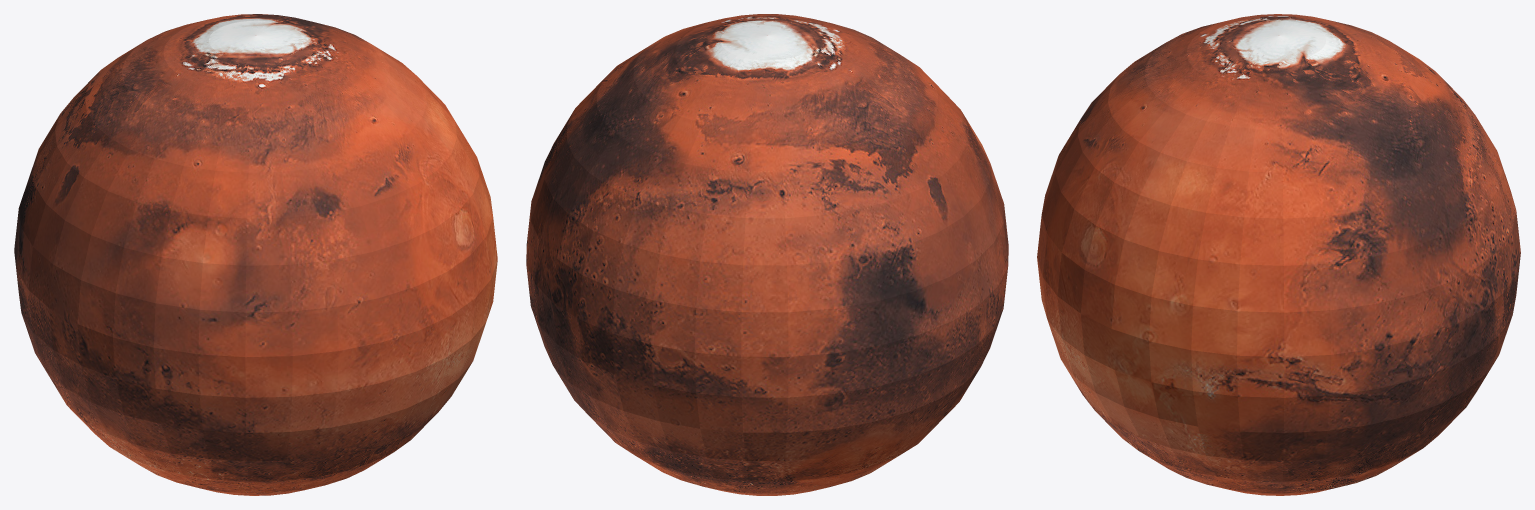
Rendered from mars.obj.
3 renders of one model, left to right at view 1: azimuth 30°, elevation 25°; view 2: azimuth 150°, elevation 25°; view 3: azimuth 270°, elevation 25°, orthographic.
Parts seen in each view (by area): view 1: Sphere; view 2: Sphere; view 3: Sphere.
Boxes of the visible parts, x1,y1,x2,y2 form: Sphere: (14,14,497,495); Sphere: (526,14,1008,495); Sphere: (1037,14,1520,495).
Size of the model in its own units: 2 by 2 by 2.
1 material, 1 textured.
